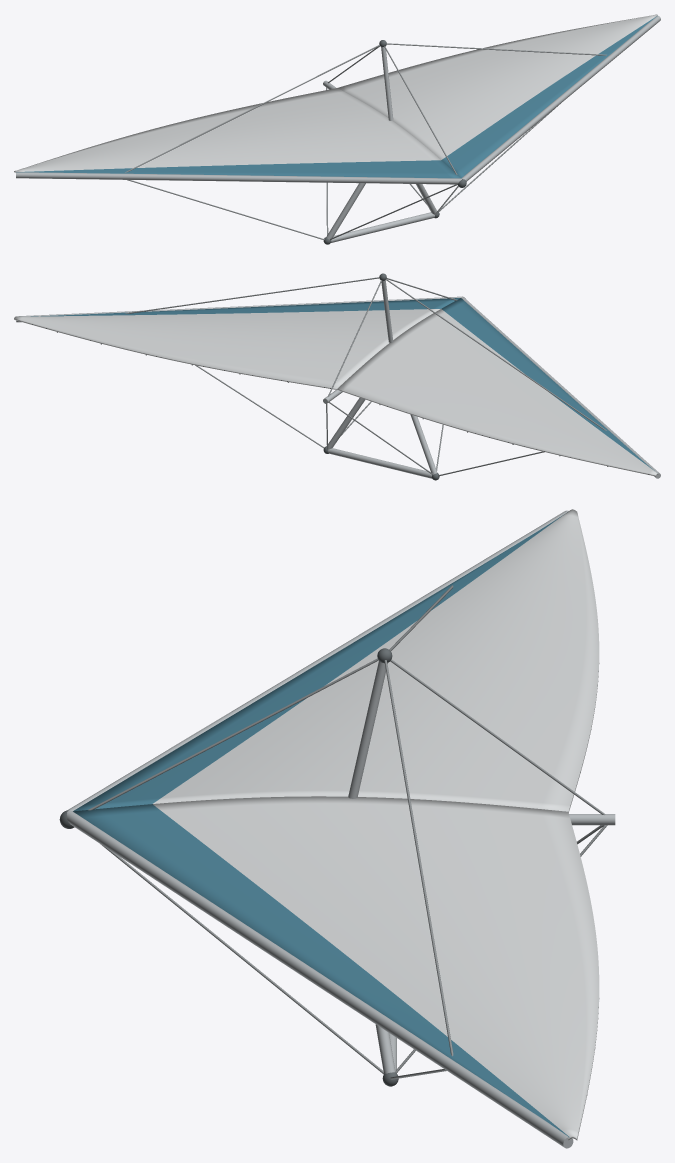
The model's file is NEW469_hang_glider_LOD0.glb.
3 views of the same model, one above another, from view 1: azimuth 30°, elevation 25°; view 2: azimuth 150°, elevation 25°; view 3: azimuth 270°, elevation 25° (orthographic). The views are drawn at different scales.
Parts seen in each view (by area): view 1: Left closed sail, Right closed sail, Leading edge spar, Leading edge spar.001, Control basebar, Upper side wire, Control-frame upright, Upper side wire.001, Kingpost, Lower side wire; view 2: Left closed sail, Right closed sail, Leading edge spar.001, Leading edge spar, Control basebar, Upper side wire, Upper side wire.001, Control-frame upright, Control-frame upright.001, Kingpost; view 3: Right closed sail, Left closed sail, Leading edge spar.001, Leading edge spar, Kingpost, Upper side wire.001, Forward lower wire.001, Upper front wire.
Part boxes in pixels (x1,y1,x2,y2): Left closed sail: [14, 88, 460, 178]; Right closed sail: [338, 14, 657, 178]; Leading edge spar: [16, 172, 461, 184]; Leading edge spar.001: [461, 16, 660, 181]; Control basebar: [331, 212, 434, 242]; Upper side wire: [125, 45, 379, 172]; Control-frame upright: [326, 183, 365, 239]; Upper side wire.001: [386, 43, 606, 55]; Kingpost: [381, 47, 393, 120]; Lower side wire: [127, 180, 324, 239]; Left closed sail: [337, 298, 658, 476]; Right closed sail: [14, 298, 460, 389]; Leading edge spar.001: [16, 296, 461, 322]; Leading edge spar: [461, 297, 660, 478]; Control basebar: [328, 448, 432, 478]; Upper side wire: [385, 279, 606, 430]; Upper side wire.001: [125, 277, 379, 313]; Control-frame upright: [410, 414, 437, 474]; Control-frame upright.001: [326, 398, 365, 449]; Kingpost: [381, 280, 393, 342]; Right closed sail: [73, 796, 599, 1140]; Left closed sail: [73, 509, 599, 812]; Leading edge spar.001: [67, 810, 573, 1148]; Leading edge spar: [67, 510, 568, 811]; Kingpost: [348, 661, 387, 798]; Upper side wire.001: [384, 660, 453, 1056]; Forward lower wire.001: [100, 844, 383, 1074]; Upper front wire: [88, 658, 378, 810].
Bounding box in the file's own units: 10.15 × 2.89 × 3.79.
